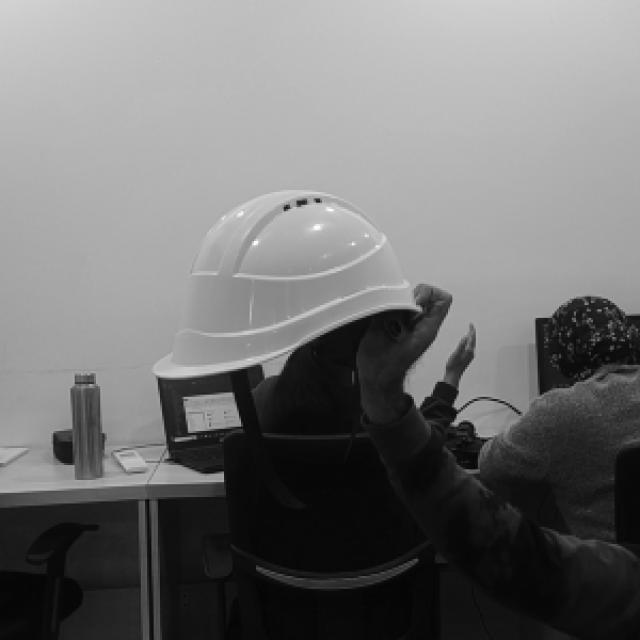safety_helmet: (154, 192, 422, 380)
